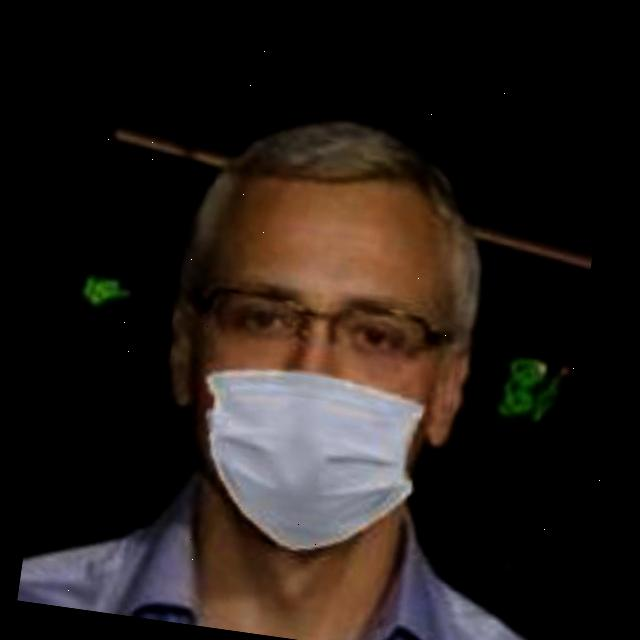suspicion: (142, 128, 499, 545)
